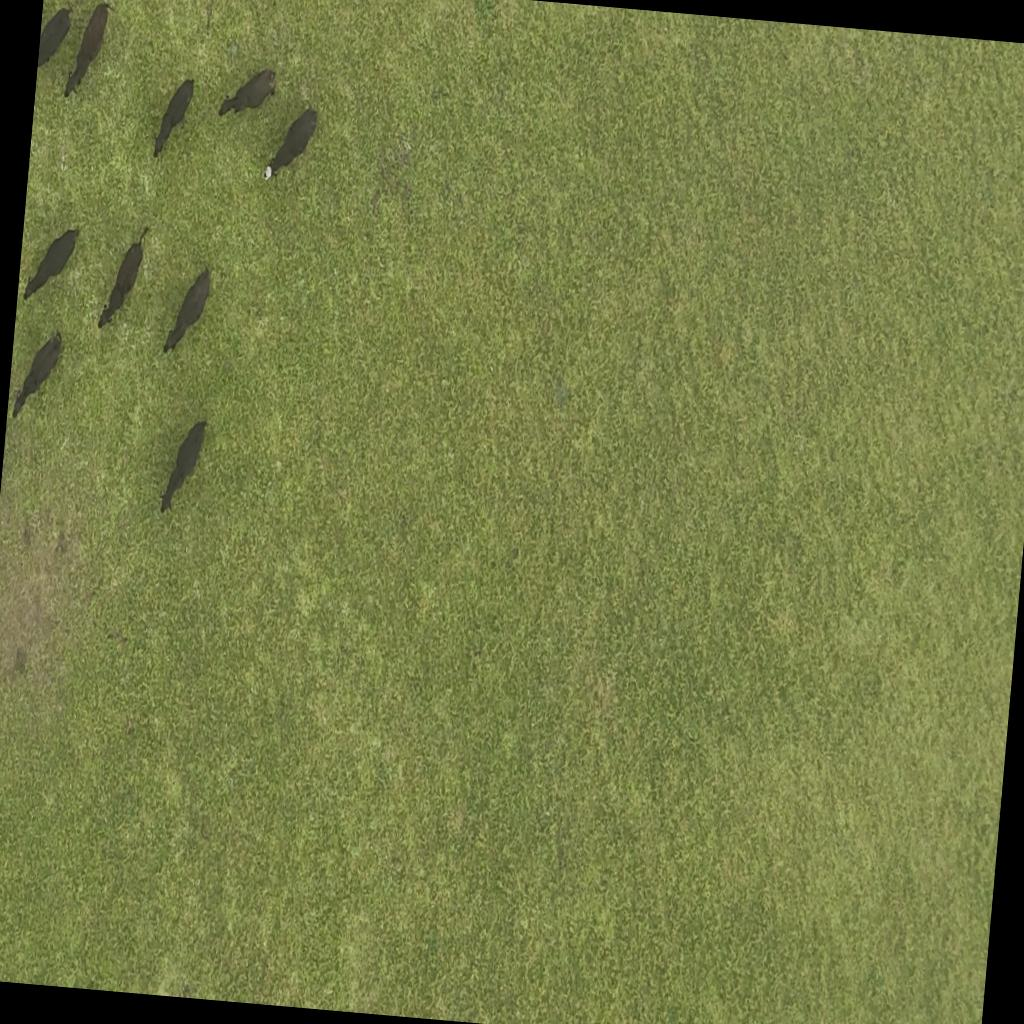cow: (6, 322, 64, 426), (156, 412, 209, 522), (96, 224, 148, 334), (20, 218, 82, 308), (63, 0, 114, 103), (162, 262, 213, 359), (262, 102, 318, 186), (150, 72, 196, 162), (218, 63, 278, 124), (36, 2, 74, 74)
